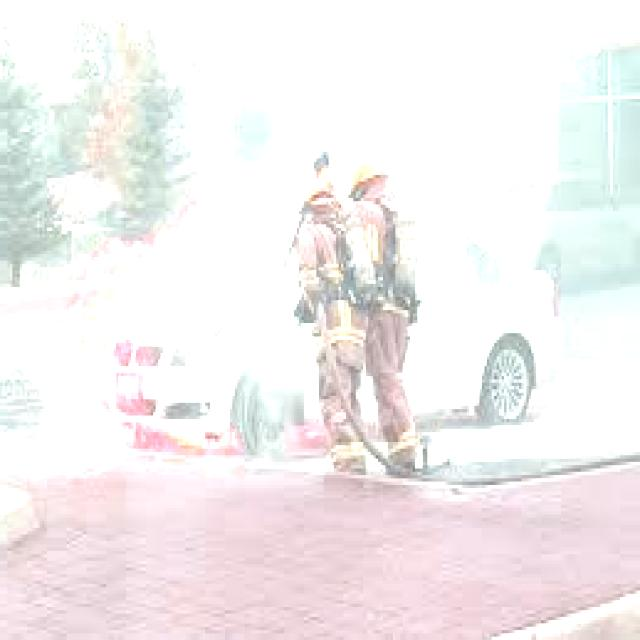fire: (32, 188, 230, 465)
